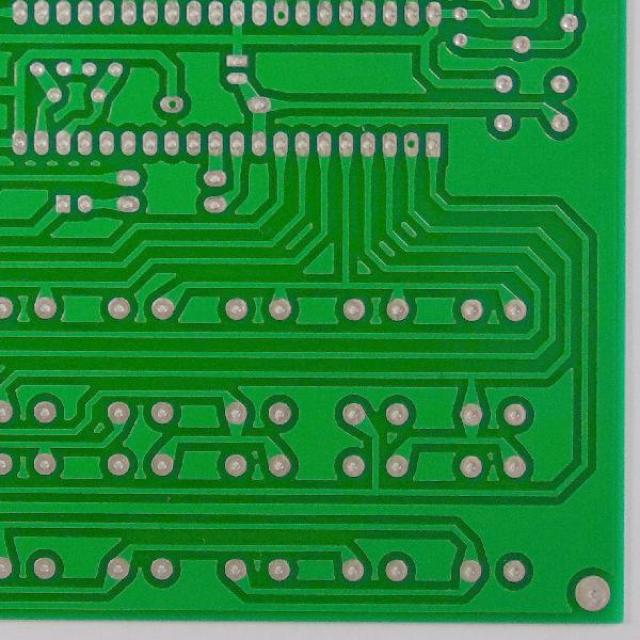Missing_Hole: (157, 93, 184, 114), (271, 0, 291, 28), (402, 130, 419, 157)
